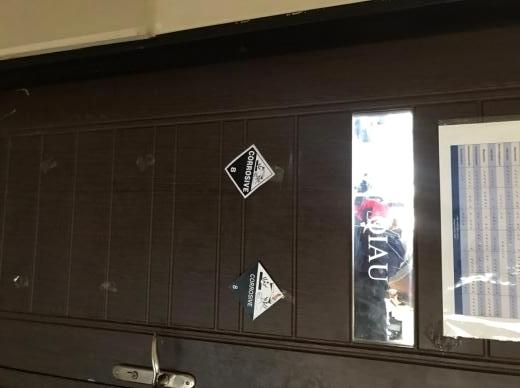corrosive: (225, 262, 285, 322), (223, 142, 275, 199)
